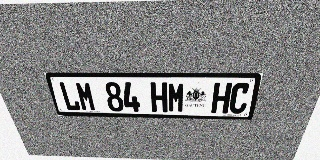4: (121, 82, 140, 112)
8: (104, 82, 124, 112)
C: (228, 83, 251, 114)
H: (211, 83, 232, 113), (150, 82, 167, 112)
L: (58, 82, 81, 111)
M: (74, 82, 97, 111), (168, 82, 185, 113)
